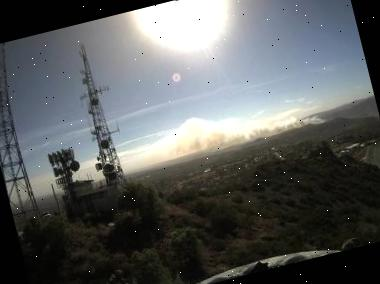smoke: (158, 85, 326, 163)
